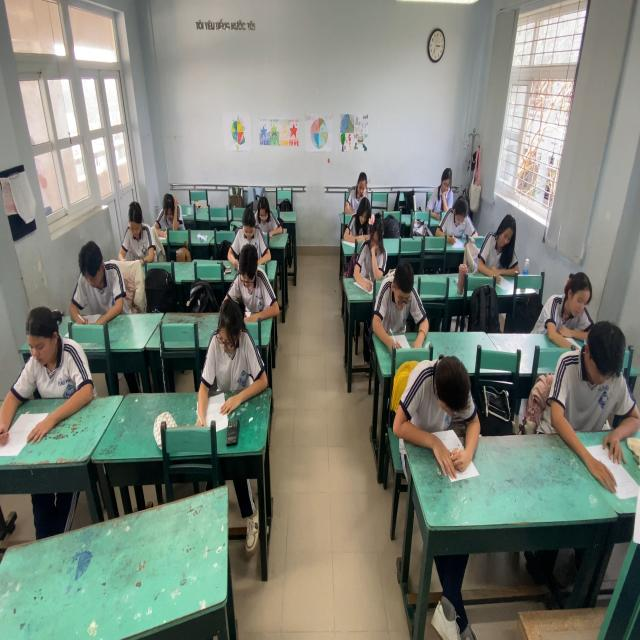not_cheating: (552, 323, 639, 443), (5, 302, 89, 413), (400, 360, 478, 454), (202, 302, 262, 409), (69, 240, 128, 316), (538, 261, 590, 333), (379, 264, 427, 336), (484, 202, 524, 278), (122, 195, 159, 258), (223, 205, 266, 257), (236, 250, 272, 305), (431, 164, 458, 215), (447, 192, 474, 243), (358, 219, 384, 271), (252, 196, 282, 236), (155, 192, 184, 233), (353, 167, 373, 198), (355, 202, 367, 233)
